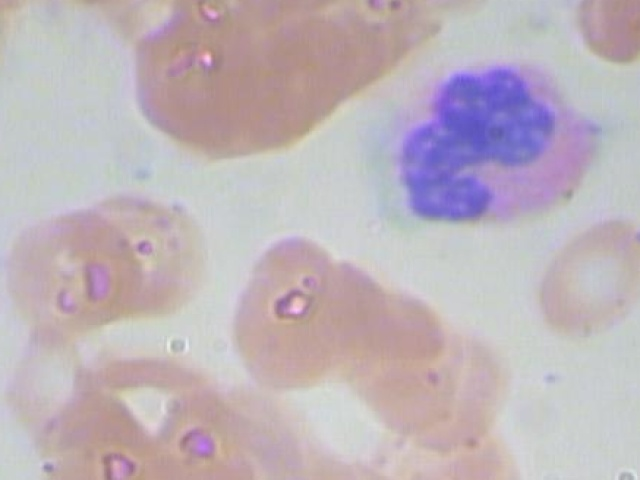RBC: (119, 3, 289, 154), (67, 182, 229, 321), (223, 224, 358, 389), (0, 198, 154, 338), (376, 290, 481, 454), (293, 233, 397, 397), (340, 265, 444, 429), (419, 295, 523, 459), (518, 213, 640, 352), (0, 311, 116, 451), (122, 400, 292, 480), (381, 427, 542, 480), (561, 0, 640, 81), (193, 0, 367, 27), (373, 0, 512, 25), (0, 0, 22, 85)
WBC: (390, 50, 613, 243)
